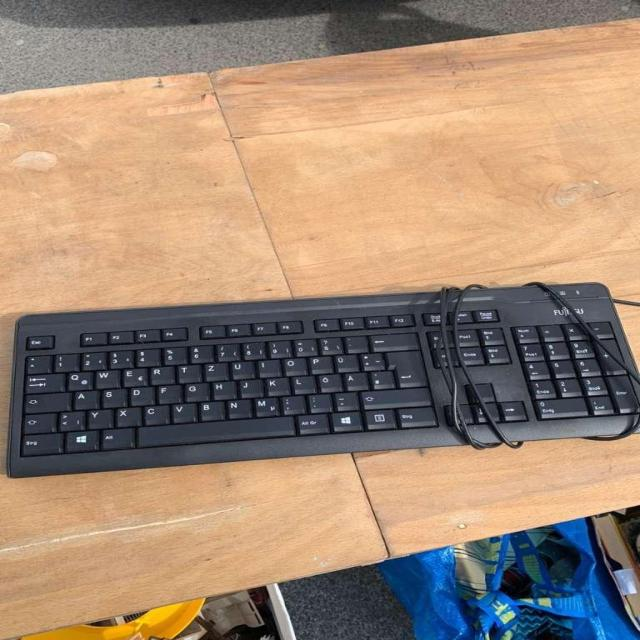0: (291, 336, 314, 355)
1: (51, 351, 75, 371)
2: (78, 349, 104, 369)
3: (107, 348, 131, 367)
4: (133, 346, 157, 365)
5: (160, 345, 183, 364)
6: (187, 343, 211, 362)
7: (214, 342, 237, 360)
8: (240, 340, 262, 359)
9: (265, 338, 289, 357)
a: (72, 389, 96, 408)
accent: (341, 334, 365, 352)
ae: (342, 371, 366, 390)
alt-left: (99, 426, 130, 448)
altgr-right: (294, 412, 326, 433)
b: (196, 399, 222, 419)
c: (141, 403, 166, 423)
caret: (22, 353, 48, 373)
comma: (278, 393, 302, 413)
d: (127, 385, 151, 405)
del: (367, 330, 416, 350)
e: (119, 366, 144, 386)
enter: (384, 348, 425, 387)
f: (155, 383, 178, 403)
g: (182, 381, 206, 400)
h: (211, 380, 233, 399)
hash: (367, 369, 391, 388)
i: (254, 358, 277, 377)
j: (237, 377, 260, 396)
k: (264, 376, 287, 395)
keyboard: (4, 283, 635, 478)
l: (290, 374, 313, 393)
less: (55, 409, 81, 429)
m: (252, 395, 276, 416)
minus: (331, 390, 354, 409)
n: (224, 398, 248, 418)
o: (280, 356, 304, 375)
oe: (316, 372, 339, 391)
p: (306, 354, 329, 373)
plus: (357, 350, 382, 369)
point: (305, 391, 328, 411)
q: (64, 369, 90, 389)
r: (148, 364, 172, 384)
s: (99, 387, 123, 406)
shift-left: (20, 412, 51, 432)
shift-lock: (22, 391, 68, 412)
shift-right: (357, 386, 428, 407)
space: (135, 415, 292, 446)
ss: (316, 335, 340, 353)
strg-left: (18, 431, 59, 454)
strg-right: (393, 404, 435, 426)
t: (175, 362, 197, 382)
tab: (22, 372, 61, 391)
u: (228, 360, 251, 379)
ue: (332, 353, 356, 372)
v: (169, 401, 193, 421)
w: (93, 368, 116, 388)
x: (114, 405, 138, 426)
y: (85, 408, 108, 428)
z: (201, 361, 225, 380)
